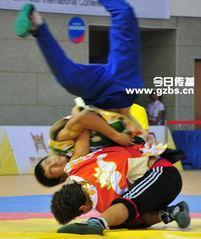Fall-Detected: (9, 0, 149, 190)
